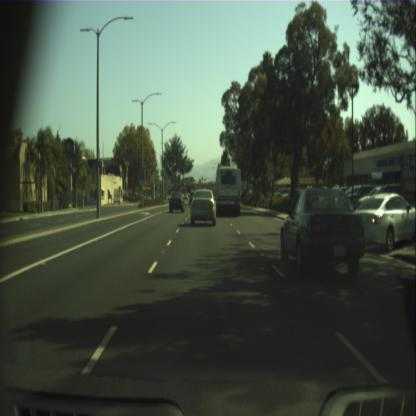Red: (201, 175, 203, 180)
off: (218, 162, 219, 166)
